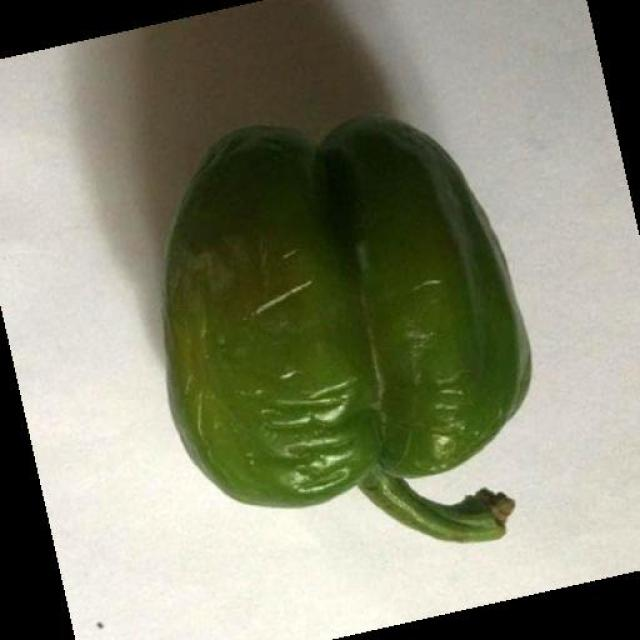Stale_Capsicum: (141, 109, 528, 562)
